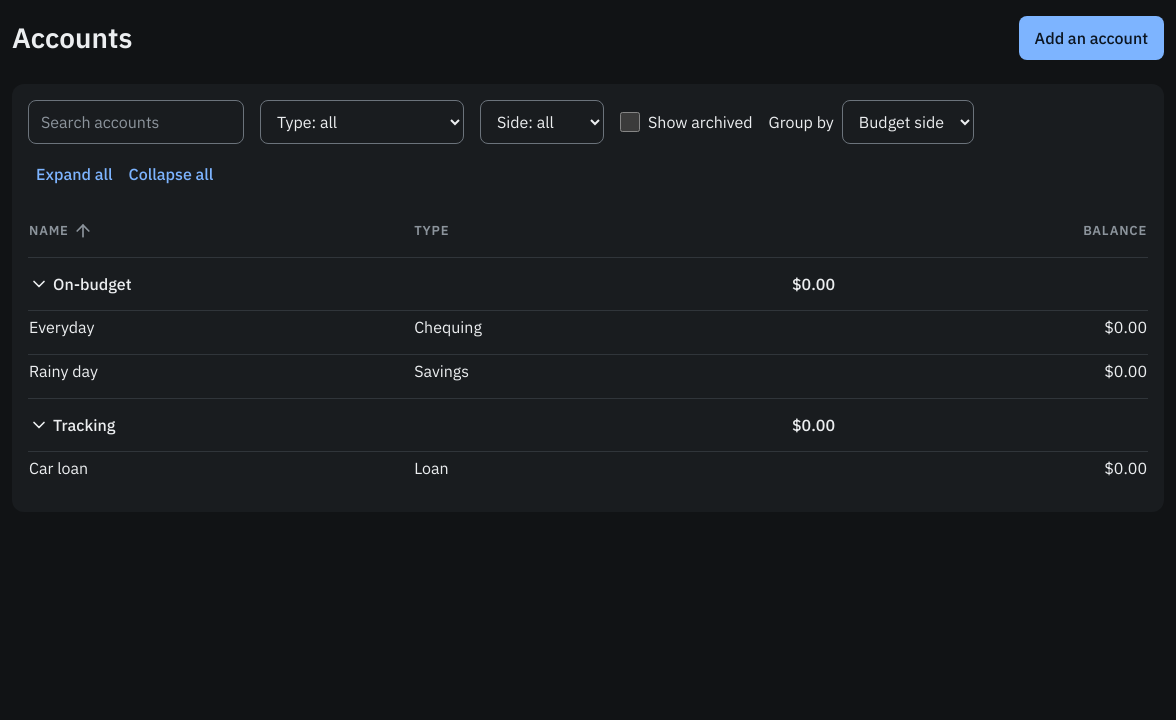
Test: Accounts filters › picks the balance-check difference category by typing, not from a drop-down
The width and height of the screenshot is (1176, 720).
Click the text "Everyday". click: [62, 327]
box: x1=28 y1=310 x2=413 y2=354
(page scrolled)
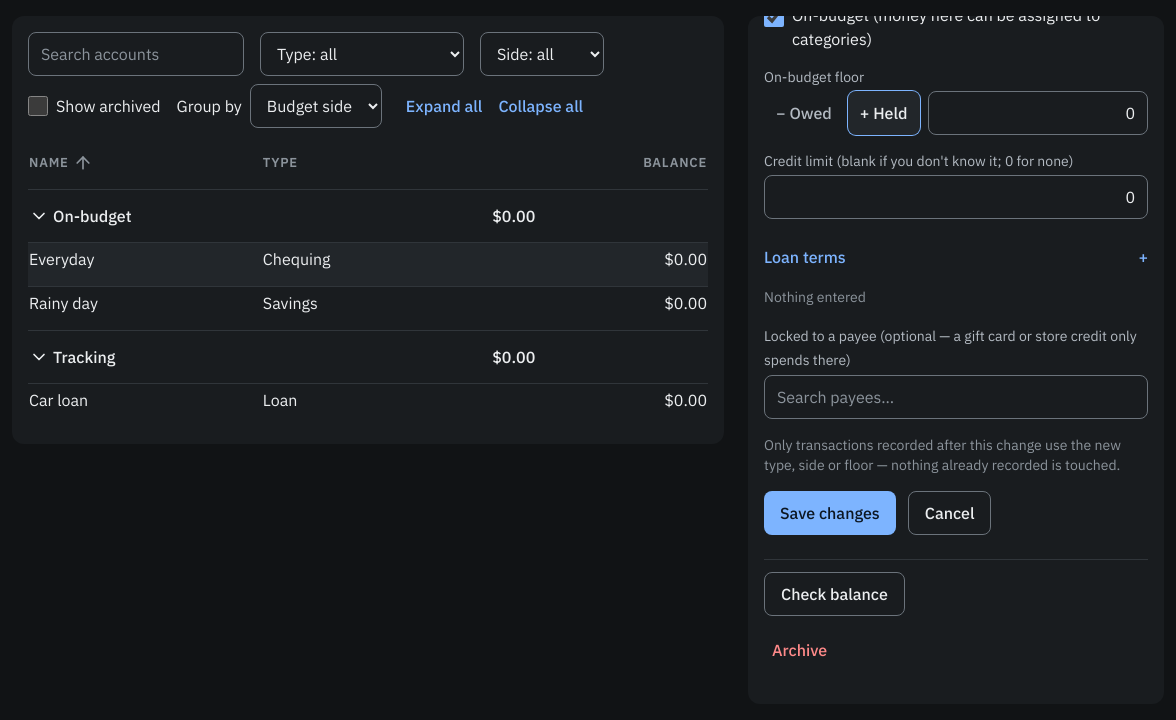
Click the button "Check balance". click: [834, 594]
box: x1=764 y1=572 x2=905 y2=616
(page scrolled)
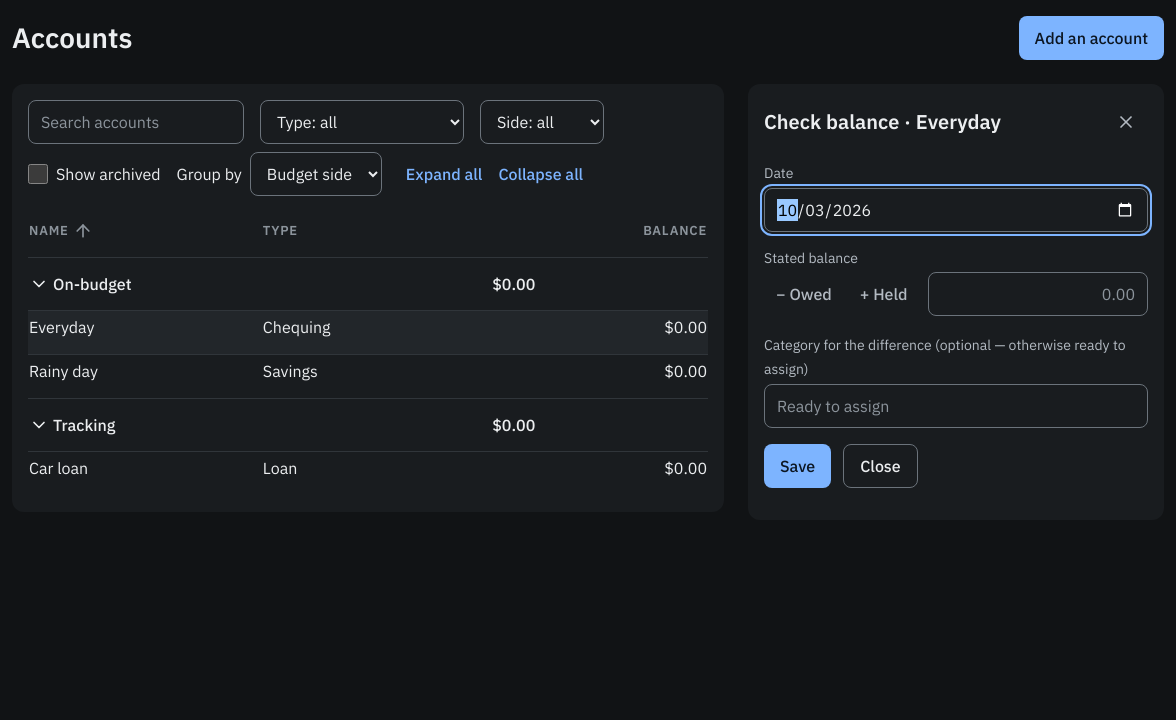
Type "gro" into the field labelled "Category for the difference". click: [956, 406]
box: x1=764 y1=384 x2=1148 y2=428
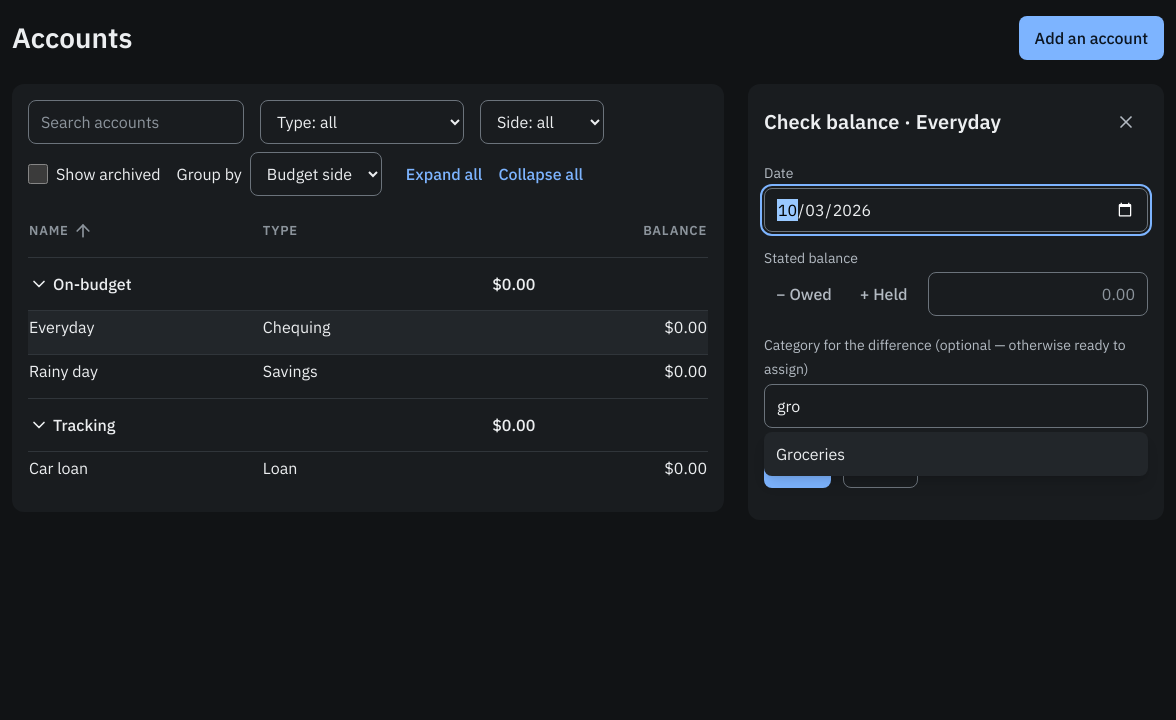
Check: the button "Groceries" is shown, box x1=764 y1=432 x2=1148 y2=476
